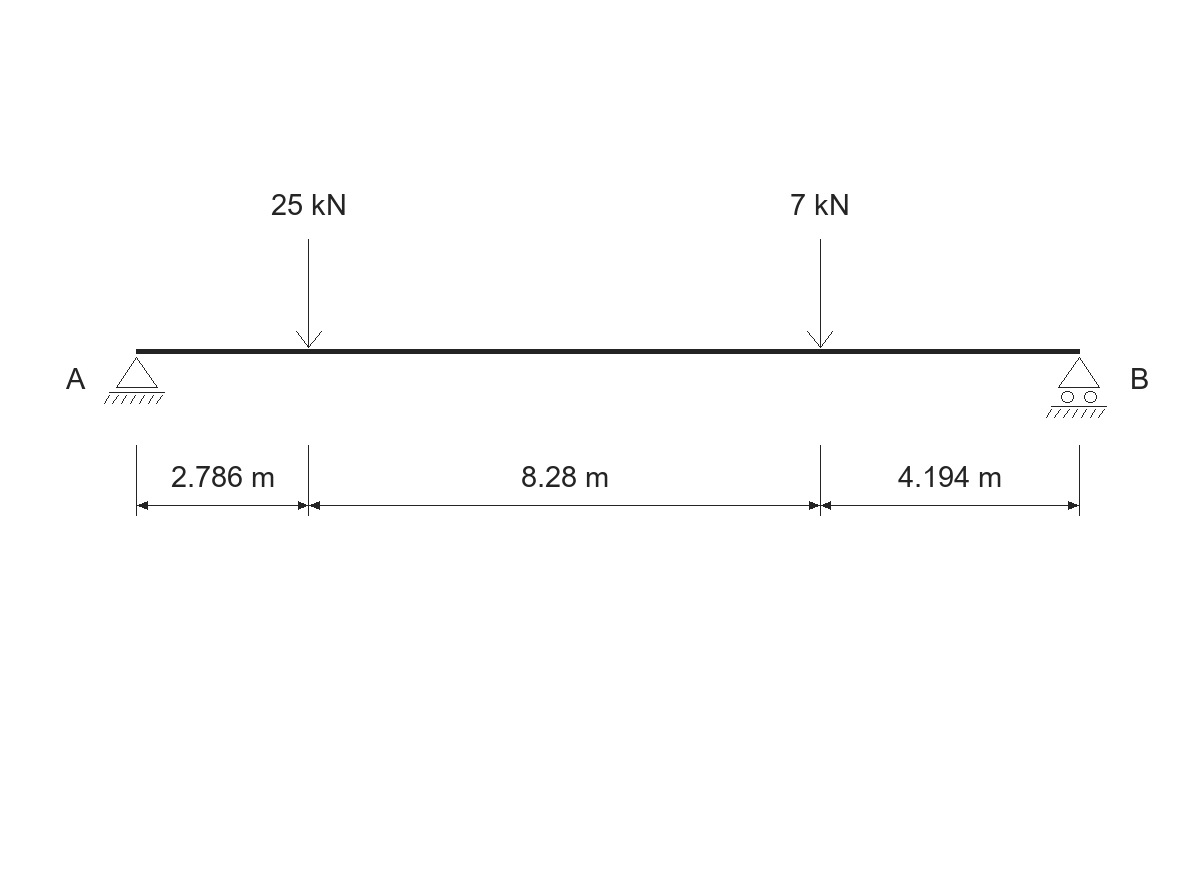pin_support: (104, 357, 165, 404)
point_load: (296, 239, 322, 348), (807, 239, 833, 348)
roller_support: (1046, 357, 1107, 418)
